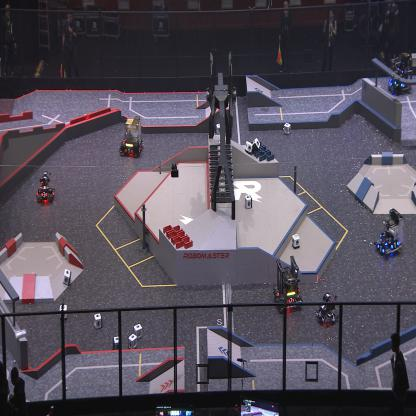car: (272, 254, 302, 312), (373, 207, 404, 257), (119, 114, 146, 157), (387, 52, 413, 96), (315, 290, 339, 327), (35, 171, 56, 204)
